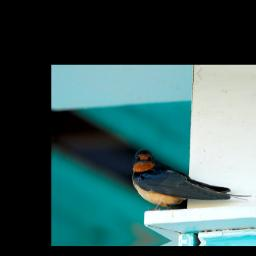Swallow: (128, 145, 253, 216)
